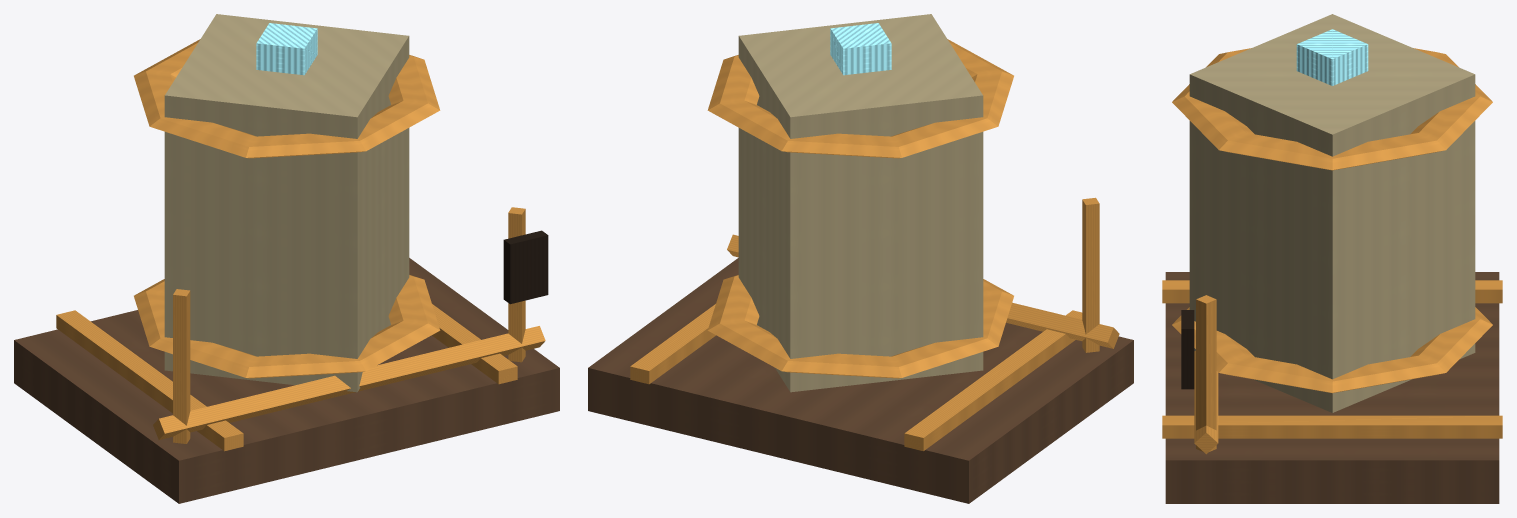
Rendered from atlas100-s017-a02.lod2.glb.
3 renders of one model, left to right at view 1: azimuth 30°, elevation 25°; view 2: azimuth 150°, elevation 25°; view 3: azimuth 270°, elevation 25°, orthographic.
Parts seen in each view (by area): view 1: atlas100-s017-a02:part-003, atlas100-s017-a02:part-000, atlas100-s017-a02:part-005, atlas100-s017-a02:part-004, atlas100-s017-a02:part-012, atlas100-s017-a02:part-001, atlas100-s017-a02:part-011, atlas100-s017-a02:part-006, atlas100-s017-a02:part-008, atlas100-s017-a02:part-002, atlas100-s017-a02:part-010; view 2: atlas100-s017-a02:part-003, atlas100-s017-a02:part-000, atlas100-s017-a02:part-005, atlas100-s017-a02:part-004, atlas100-s017-a02:part-001, atlas100-s017-a02:part-006, atlas100-s017-a02:part-008, atlas100-s017-a02:part-002, atlas100-s017-a02:part-012; view 3: atlas100-s017-a02:part-003, atlas100-s017-a02:part-000, atlas100-s017-a02:part-005, atlas100-s017-a02:part-002, atlas100-s017-a02:part-004, atlas100-s017-a02:part-006, atlas100-s017-a02:part-010, atlas100-s017-a02:part-001, atlas100-s017-a02:part-011, atlas100-s017-a02:part-012.
Boxes of the visible parts, left/top/right/bottom form: atlas100-s017-a02:part-003: left=164, top=14, right=409, bottom=392; atlas100-s017-a02:part-000: left=14, top=258, right=559, bottom=503; atlas100-s017-a02:part-005: left=134, top=39, right=440, bottom=158; atlas100-s017-a02:part-004: left=134, top=275, right=440, bottom=378; atlas100-s017-a02:part-012: left=153, top=326, right=545, bottom=439; atlas100-s017-a02:part-001: left=56, top=310, right=243, bottom=451; atlas100-s017-a02:part-011: left=503, top=230, right=548, bottom=304; atlas100-s017-a02:part-006: left=256, top=23, right=317, bottom=75; atlas100-s017-a02:part-008: left=173, top=289, right=190, bottom=443; atlas100-s017-a02:part-002: left=432, top=304, right=517, bottom=384; atlas100-s017-a02:part-010: left=508, top=207, right=525, bottom=362; atlas100-s017-a02:part-003: left=738, top=14, right=983, bottom=392; atlas100-s017-a02:part-000: left=588, top=258, right=1133, bottom=503; atlas100-s017-a02:part-005: left=707, top=39, right=1013, bottom=158; atlas100-s017-a02:part-004: left=707, top=275, right=1013, bottom=378; atlas100-s017-a02:part-001: left=904, top=310, right=1082, bottom=451; atlas100-s017-a02:part-006: left=830, top=23, right=891, bottom=75; atlas100-s017-a02:part-008: left=1082, top=197, right=1099, bottom=352; atlas100-s017-a02:part-002: left=630, top=304, right=715, bottom=384; atlas100-s017-a02:part-012: left=727, top=234, right=1119, bottom=348; atlas100-s017-a02:part-003: left=1189, top=14, right=1475, bottom=412; atlas100-s017-a02:part-000: left=1165, top=272, right=1499, bottom=503; atlas100-s017-a02:part-005: left=1172, top=48, right=1492, bottom=170; atlas100-s017-a02:part-002: left=1162, top=415, right=1502, bottom=438; atlas100-s017-a02:part-004: left=1172, top=307, right=1492, bottom=393; atlas100-s017-a02:part-006: left=1296, top=29, right=1368, bottom=85; atlas100-s017-a02:part-010: left=1196, top=295, right=1216, bottom=451; atlas100-s017-a02:part-001: left=1162, top=280, right=1502, bottom=303; atlas100-s017-a02:part-011: left=1181, top=310, right=1194, bottom=389; atlas100-s017-a02:part-012: left=1194, top=350, right=1218, bottom=454.
Bounding box in the file's own units: 2.4 × 2.18 × 1.84.
Materials: 5 (5 with a texture image).
